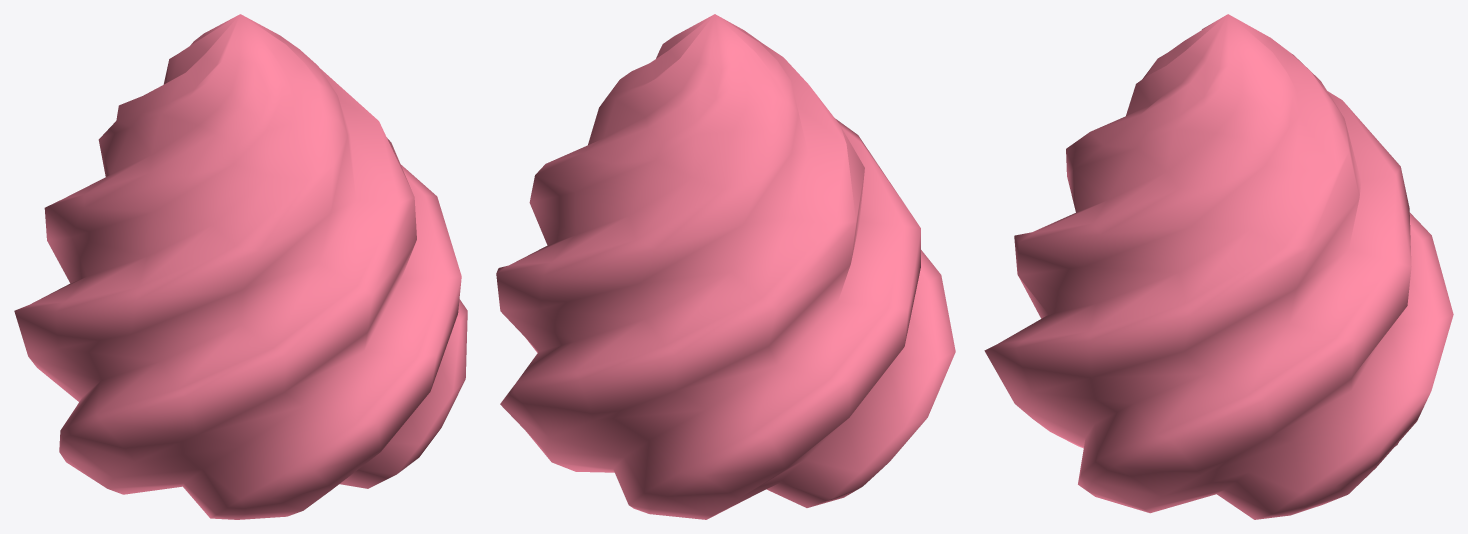
File: Ice Cream Spiral C Pink.fbx
3 renders of one model, left to right at view 1: azimuth 30°, elevation 25°; view 2: azimuth 150°, elevation 25°; view 3: azimuth 270°, elevation 25°, orthographic.
Parts seen in each view (by area): view 1: Ice Cream Spiral C Pink; view 2: Ice Cream Spiral C Pink; view 3: Ice Cream Spiral C Pink.
Part boxes in pixels (<box>): Ice Cream Spiral C Pink: <box>14,14,467,519</box>; Ice Cream Spiral C Pink: <box>496,14,955,519</box>; Ice Cream Spiral C Pink: <box>984,14,1453,519</box>.
Bounding box in the file's own units: 0.4215 × 0.4617 × 0.4308.
